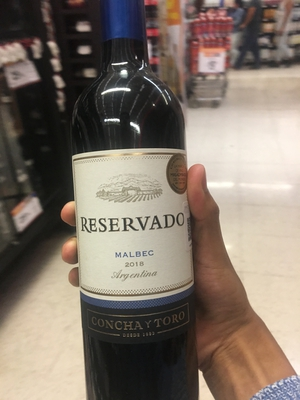reservado malbec: (63, 5, 203, 400)
